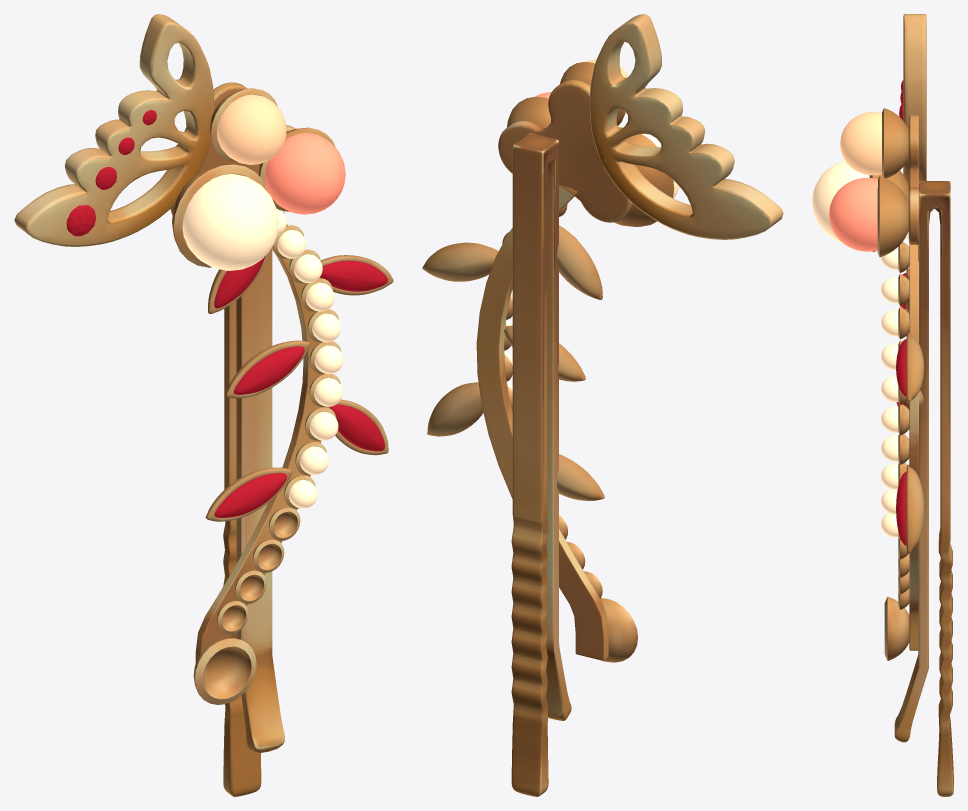
The picture shows the model from 3 angles, left to right: view 1: azimuth 30°, elevation 25°; view 2: azimuth 150°, elevation 25°; view 3: azimuth 270°, elevation 25°; orthographic projection. The views are drawn at different scales.
Visible parts, largest first — view 1: hairakuse; view 2: hairakuse; view 3: hairakuse.
Boxes of the visible parts, bbox=[...] form: hairakuse: bbox=[14, 14, 393, 796]; hairakuse: bbox=[422, 14, 783, 796]; hairakuse: bbox=[812, 14, 953, 796].
Size of the model in its own units: 72.64 by 152 by 26.6.
